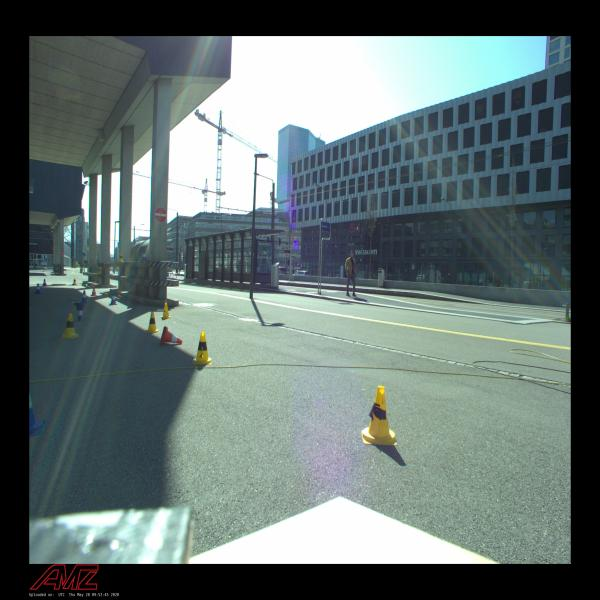blue_cone: (73, 302, 86, 321), (110, 292, 118, 305), (80, 291, 89, 302), (140, 251, 148, 262), (35, 283, 42, 294), (42, 279, 48, 286)
orange_cone: (159, 326, 183, 345), (91, 286, 98, 296)
yellow_cone: (361, 386, 397, 446), (192, 332, 212, 364), (61, 314, 80, 338), (145, 311, 160, 334), (160, 302, 172, 319), (118, 253, 124, 262), (97, 267, 102, 274), (73, 278, 77, 284)
